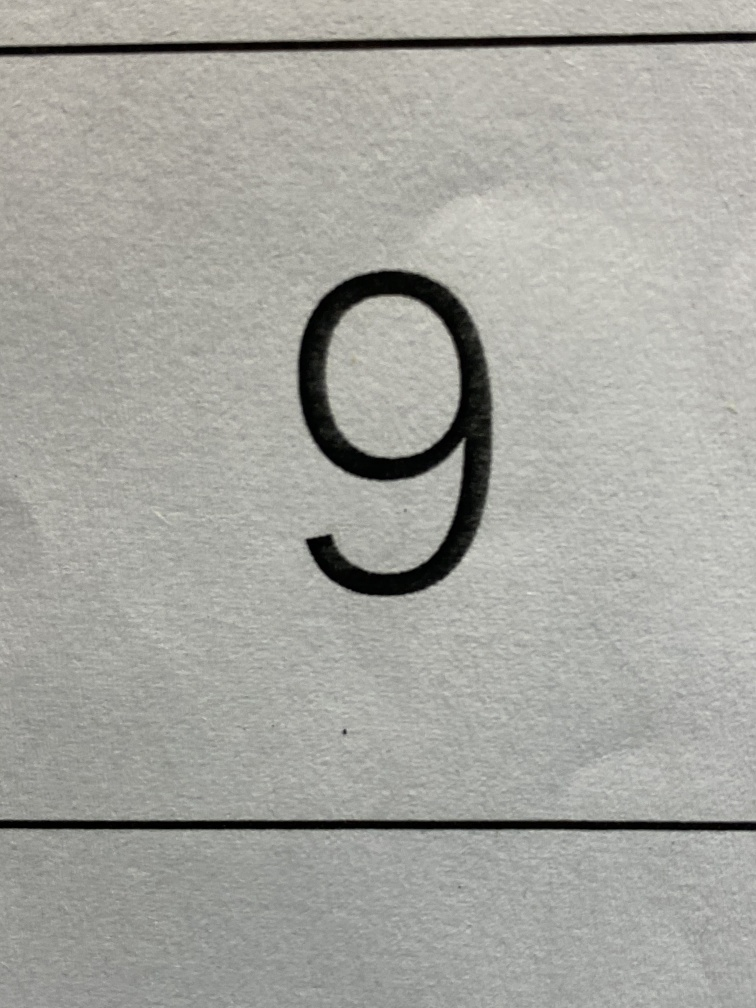nine: (246, 219, 535, 653)
